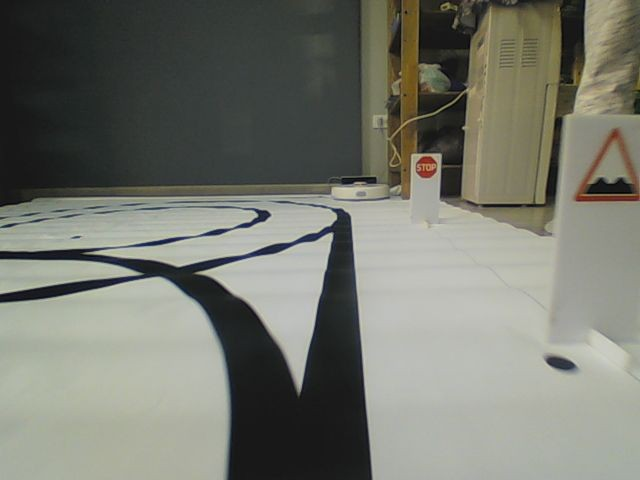Stop: (414, 155, 438, 181)
